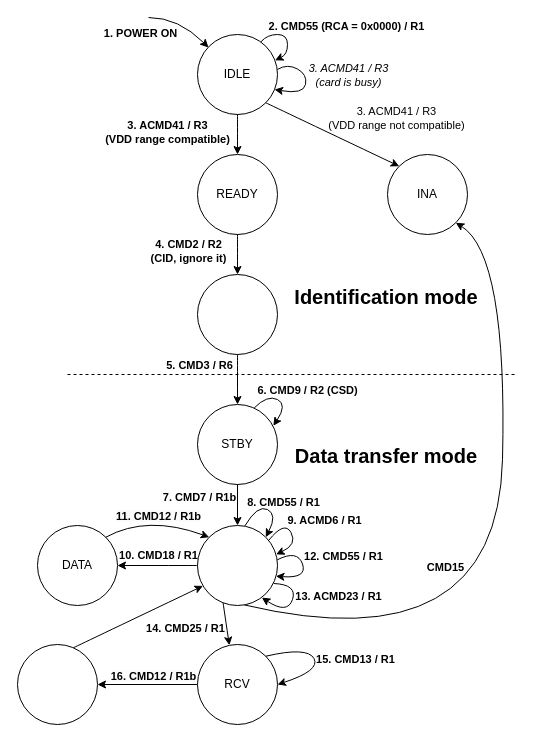
This 536x742 diagram has some shape labels left out. The shapes that lost their labels are listed below. From the top down, each one's box as (x1, y1, x2, y2) in pixels, then its label:
(196, 274, 278, 354): IDENT
(196, 524, 278, 606): TRAN
(16, 644, 98, 724): PRG
